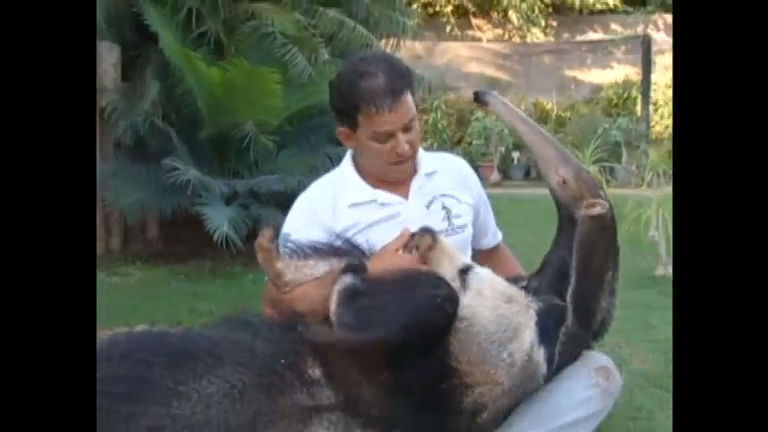TamanduaBandeira: (106, 92, 631, 413)
